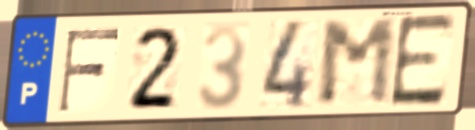2: (122, 24, 188, 112)
3: (196, 21, 251, 113)
4: (258, 18, 316, 112)
E: (386, 11, 459, 111)
F: (54, 26, 124, 116)
M: (316, 16, 398, 110)
